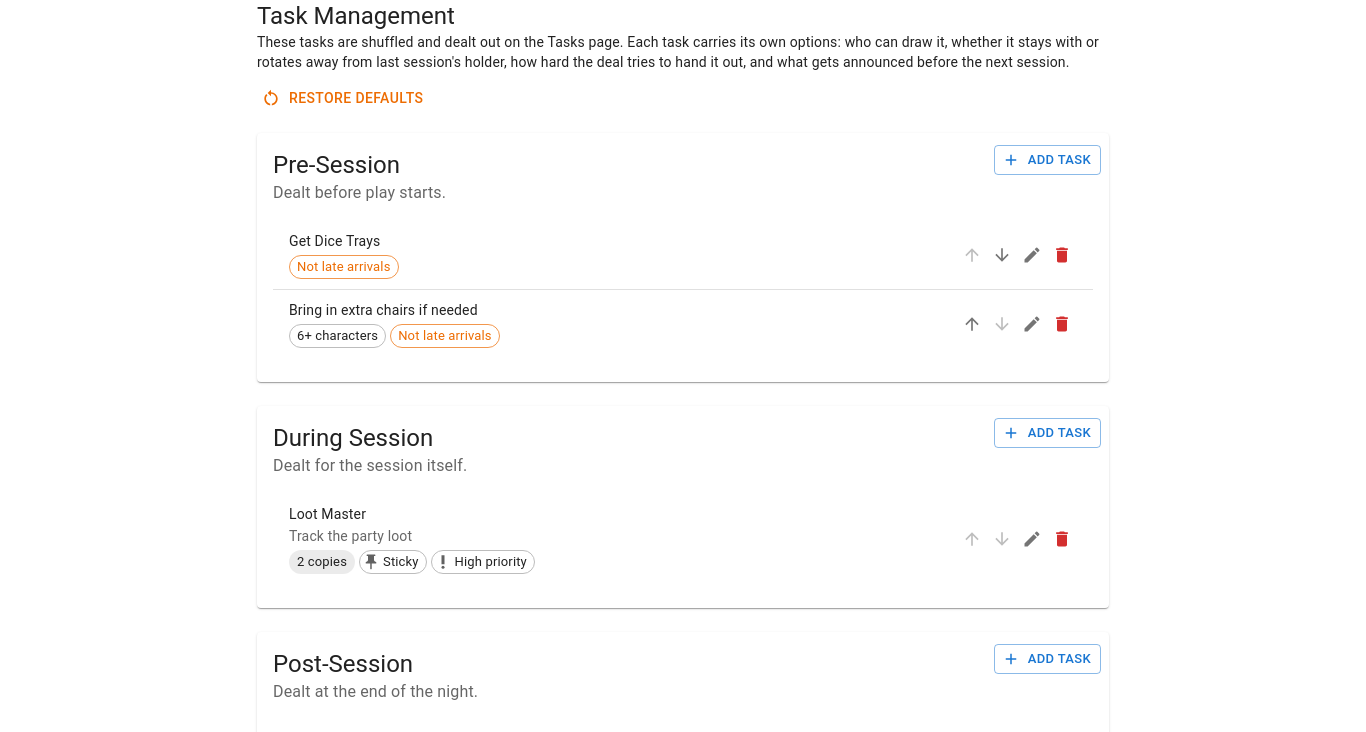
Test: TaskManagement › submit-time validation › rejects a maximum below the minimum
Check: the text "Get Dice Trays" is shown, box [289, 233, 380, 249]
Click the button "Add task" in the row of "Pre-Session".
click(1047, 160)  # box [994, 144, 1101, 175]
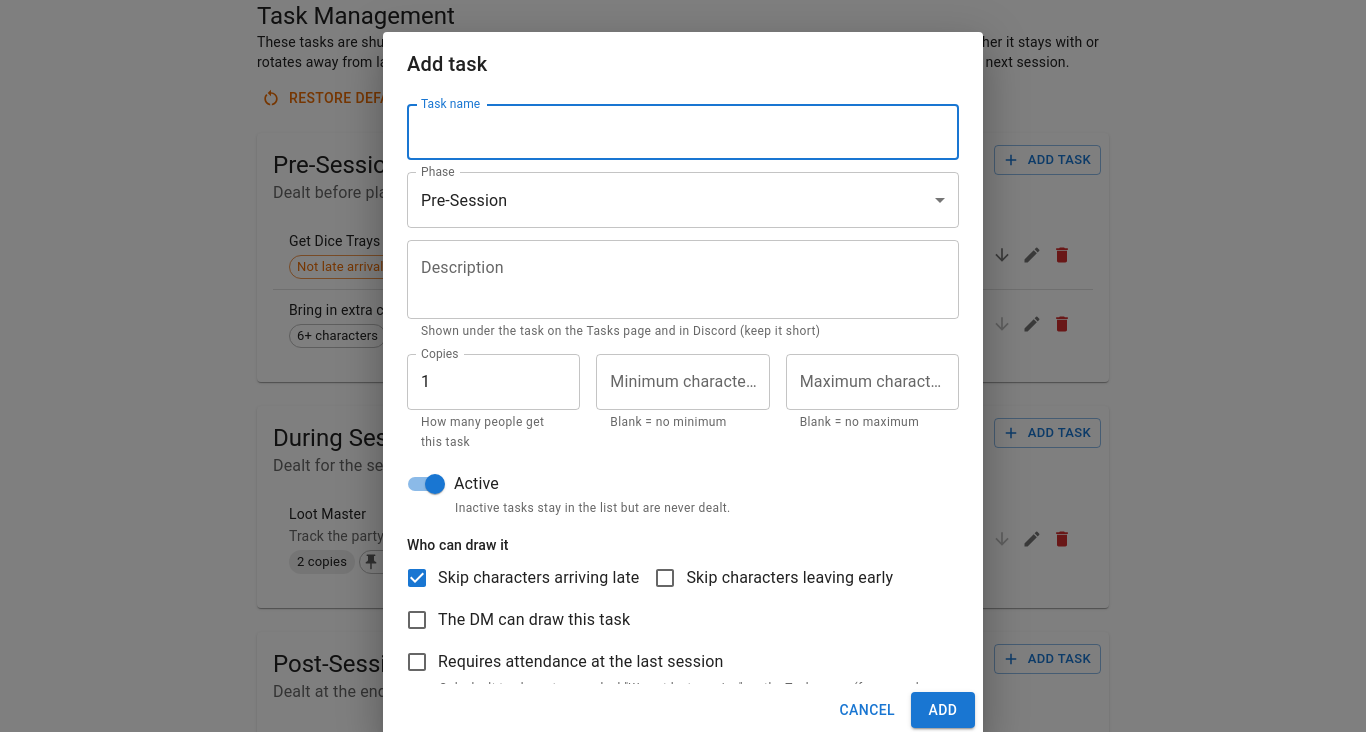
Type "Valid name" into the field labelled "Task name".
click(683, 132); type("Valid name")  # box [407, 104, 959, 160]
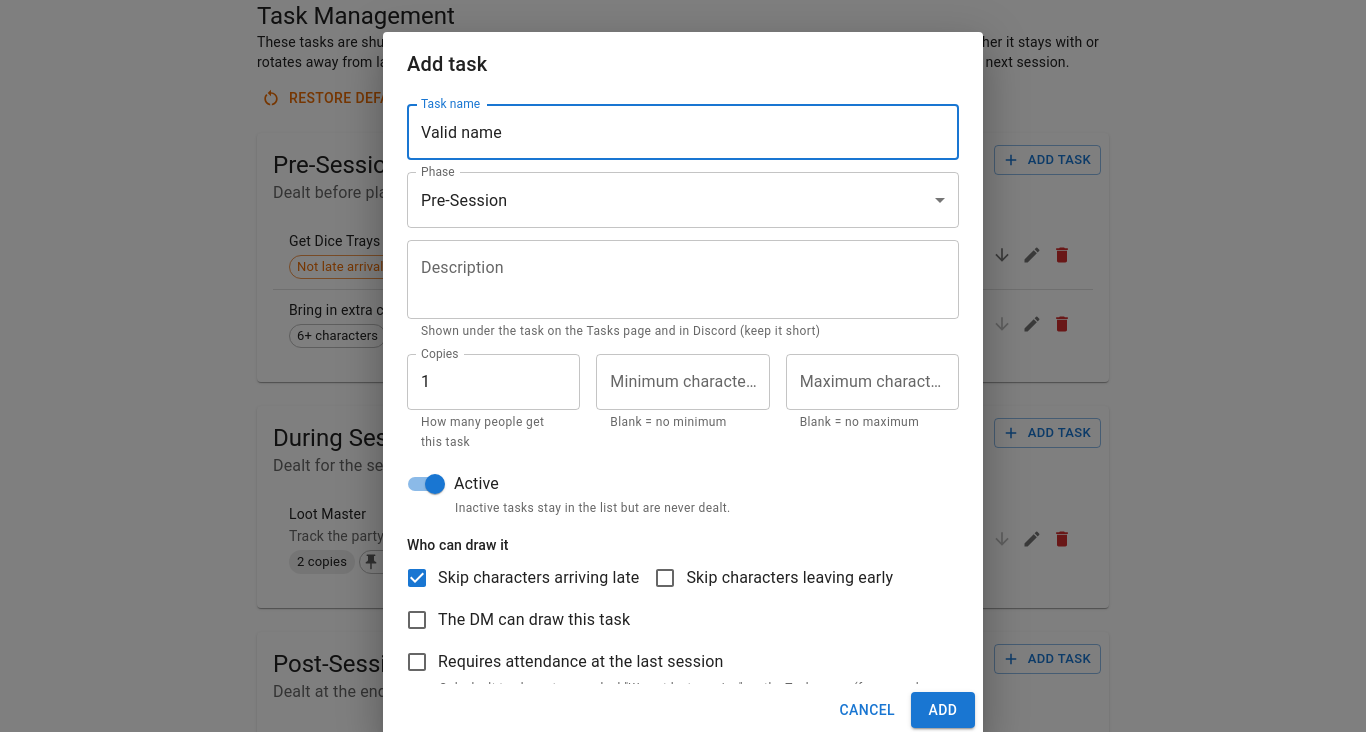
Type "6" into the number field labelled "Minimum characters".
click(683, 382); type("6")  # box [596, 354, 770, 410]
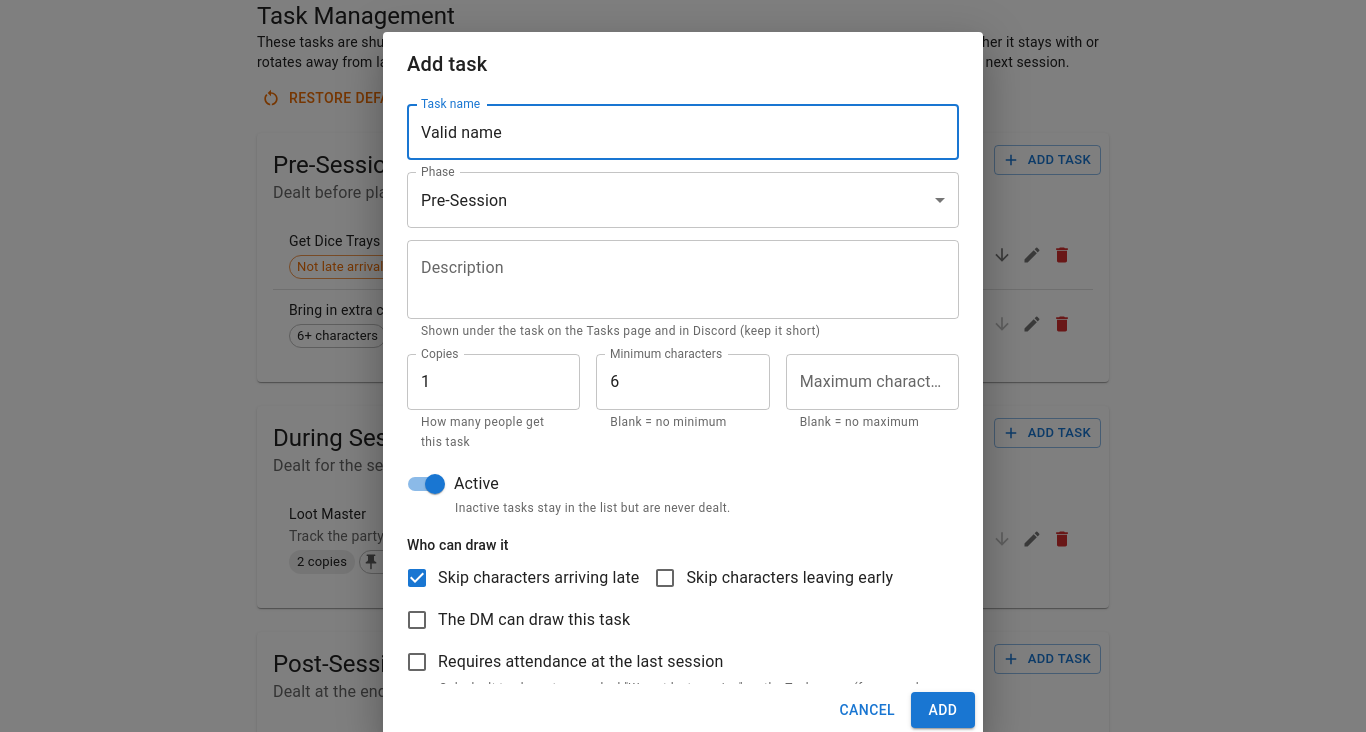
Type "4" into the number field labelled "Maximum characters".
click(872, 382); type("4")  # box [786, 354, 959, 410]
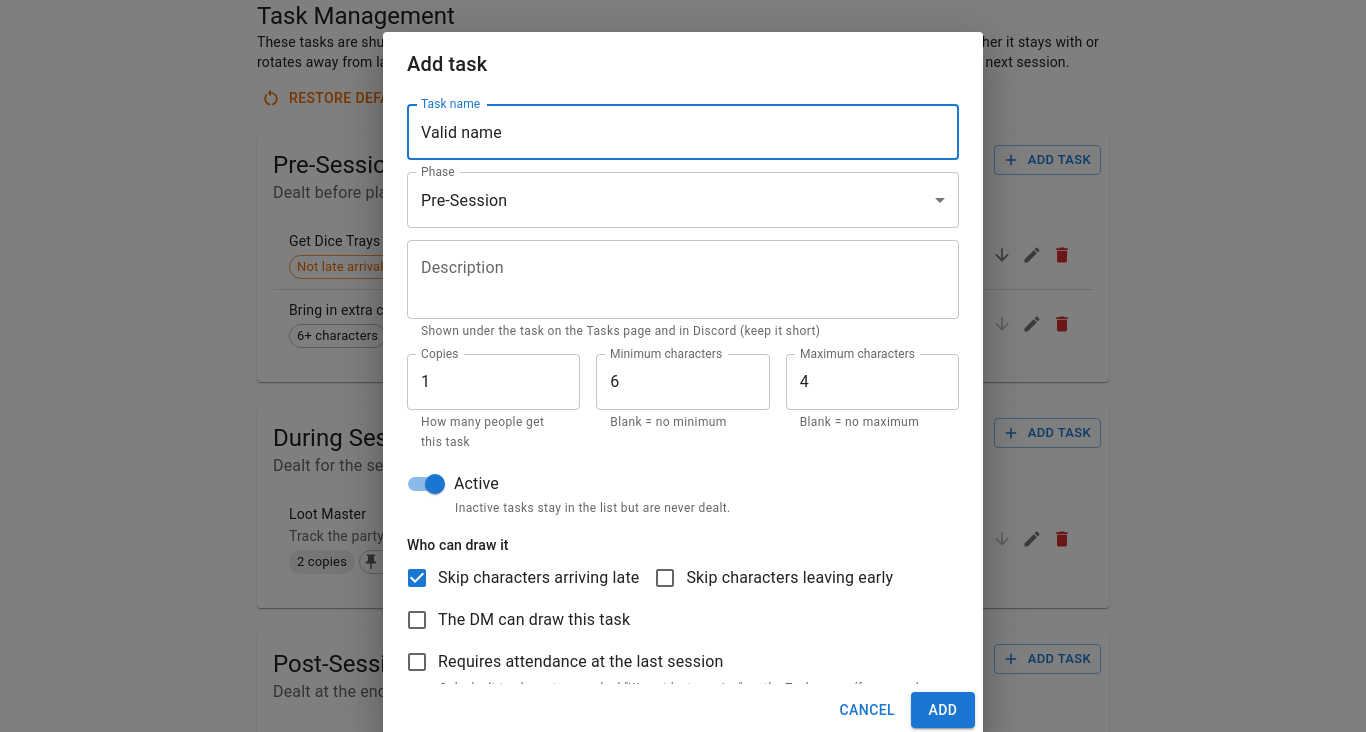
Click the button "Add".
click(943, 710)  # box [911, 692, 975, 728]
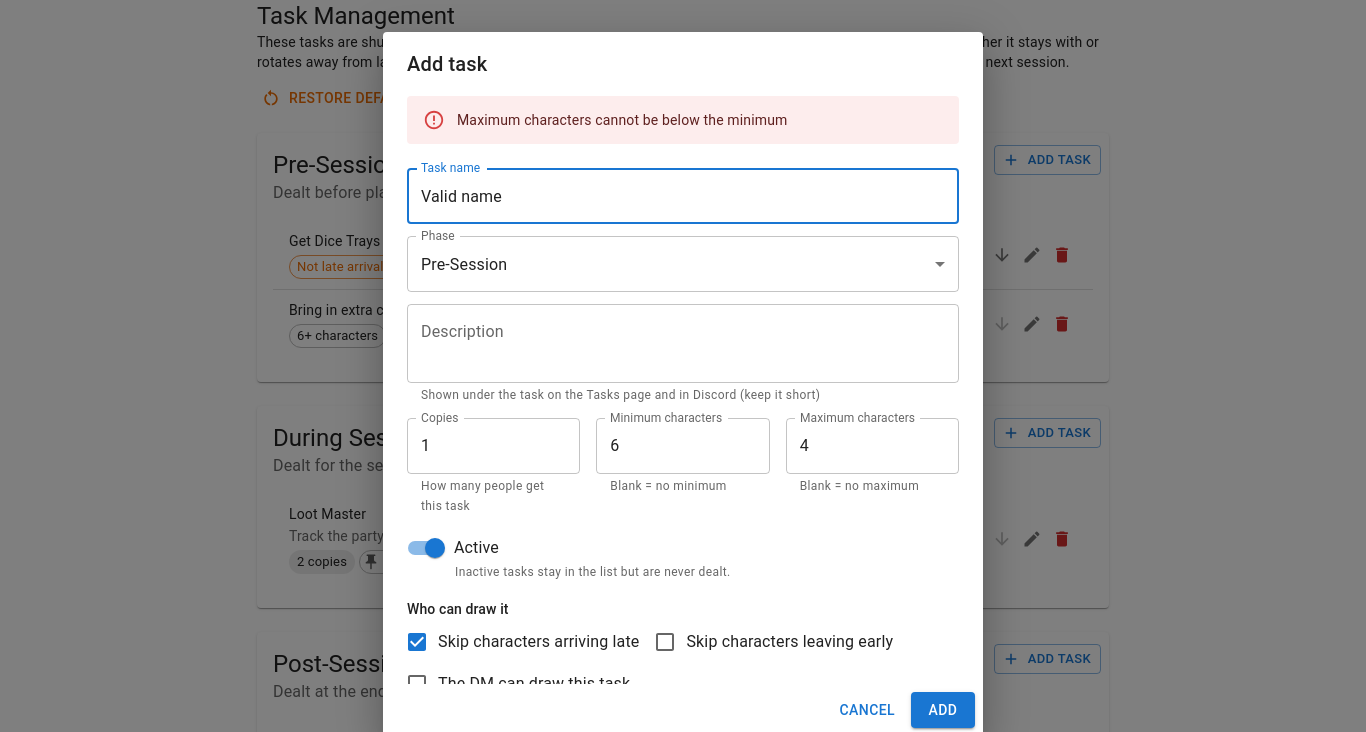
Check: the text "Maximum characters cannot be below the minimum" is shown, box [457, 112, 788, 128]
